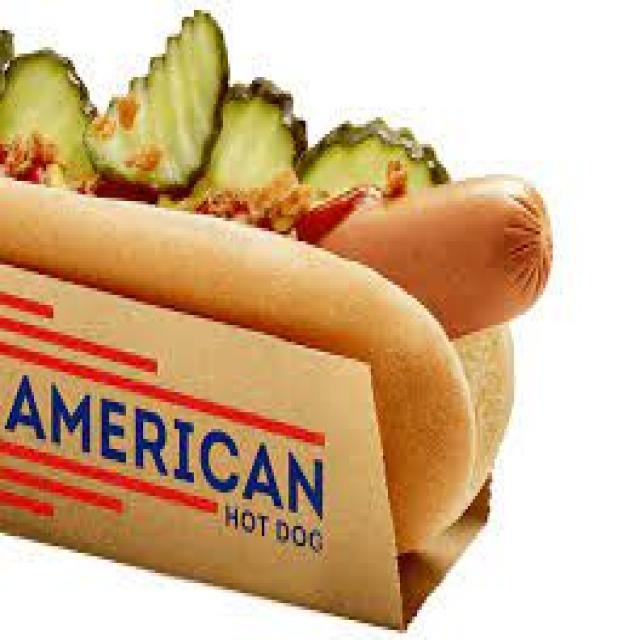Hot Dog: (0, 67, 545, 579)
